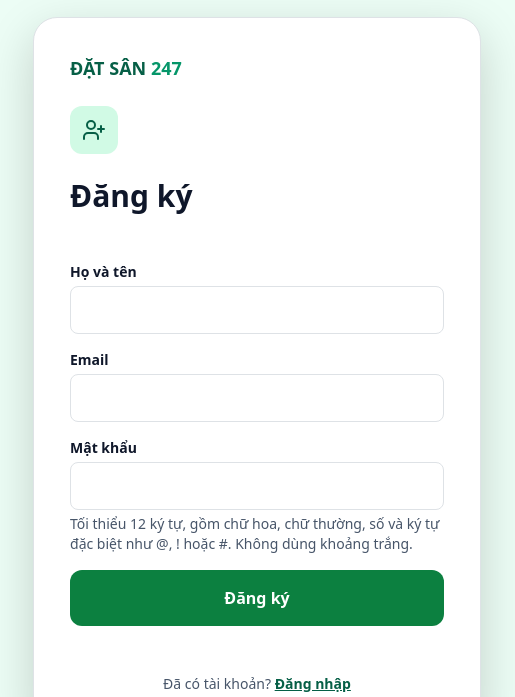
it: registration page › keeps registration complete when delivery is unconfirmed
The width and height of the screenshot is (515, 697).
In the field labelled "Họ và tên": (257, 310) left=70, top=286, right=444, bottom=334, type " Test Customer "
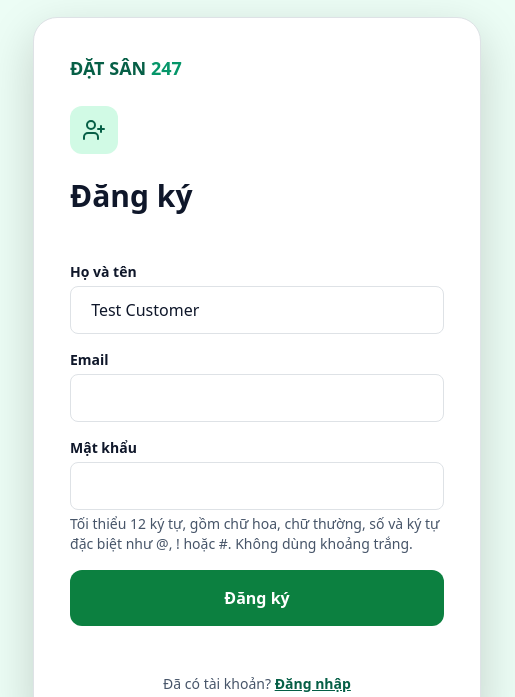
In the field labelled "Email": (257, 398) left=70, top=374, right=444, bottom=422, type "CUSTOMER@example.test"
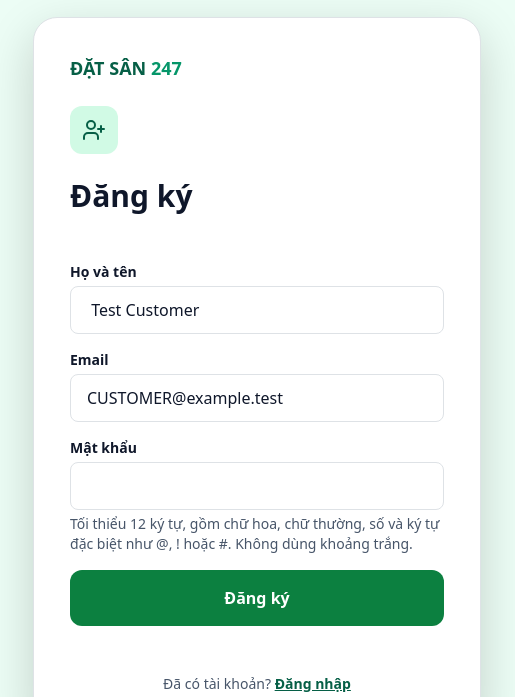
In the password field labelled "Mật khẩu": (257, 486) left=70, top=462, right=444, bottom=510, type "LocalPass1!a"
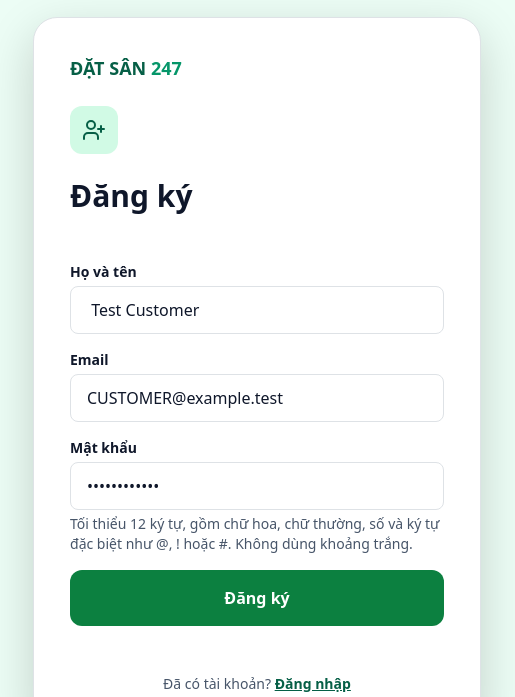
Click the button "Đăng ký": (257, 598) left=70, top=570, right=444, bottom=626
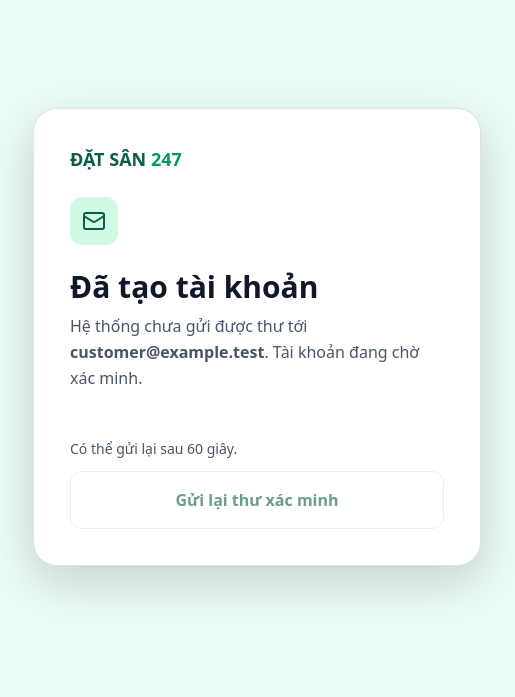
Result: the heading "Đã tạo tài khoản" is shown at left=70, top=266, right=318, bottom=307
Result: the text "Hệ thống chưa gửi được thư" is shown at left=70, top=315, right=307, bottom=337
Result: the heading "Đăng ký" is gone
